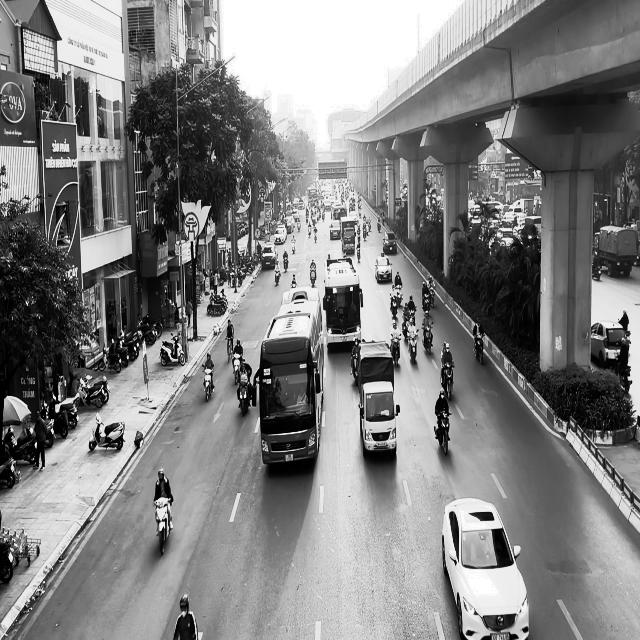bus: (323, 255, 362, 348)
car: (441, 498, 529, 640), (590, 321, 631, 368), (374, 254, 392, 282), (382, 230, 397, 254)
motorbike: (89, 412, 125, 451), (153, 497, 173, 555), (160, 332, 186, 366), (434, 410, 451, 454), (236, 380, 251, 416), (440, 363, 454, 400), (202, 365, 214, 402), (407, 328, 418, 363), (422, 320, 433, 354), (390, 334, 401, 366), (473, 332, 484, 364), (232, 354, 241, 383), (350, 352, 358, 382), (226, 335, 233, 362), (310, 267, 316, 287), (274, 268, 280, 286), (283, 254, 288, 272)
